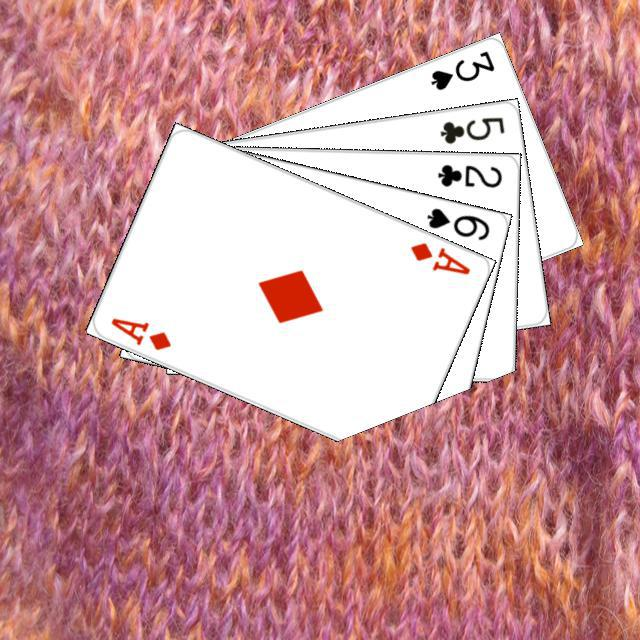2c: (432, 159, 503, 189)
3s: (425, 46, 496, 93)
5c: (435, 112, 507, 146)
6s: (422, 203, 492, 242)
Ad: (105, 312, 173, 353), (405, 237, 473, 277)
